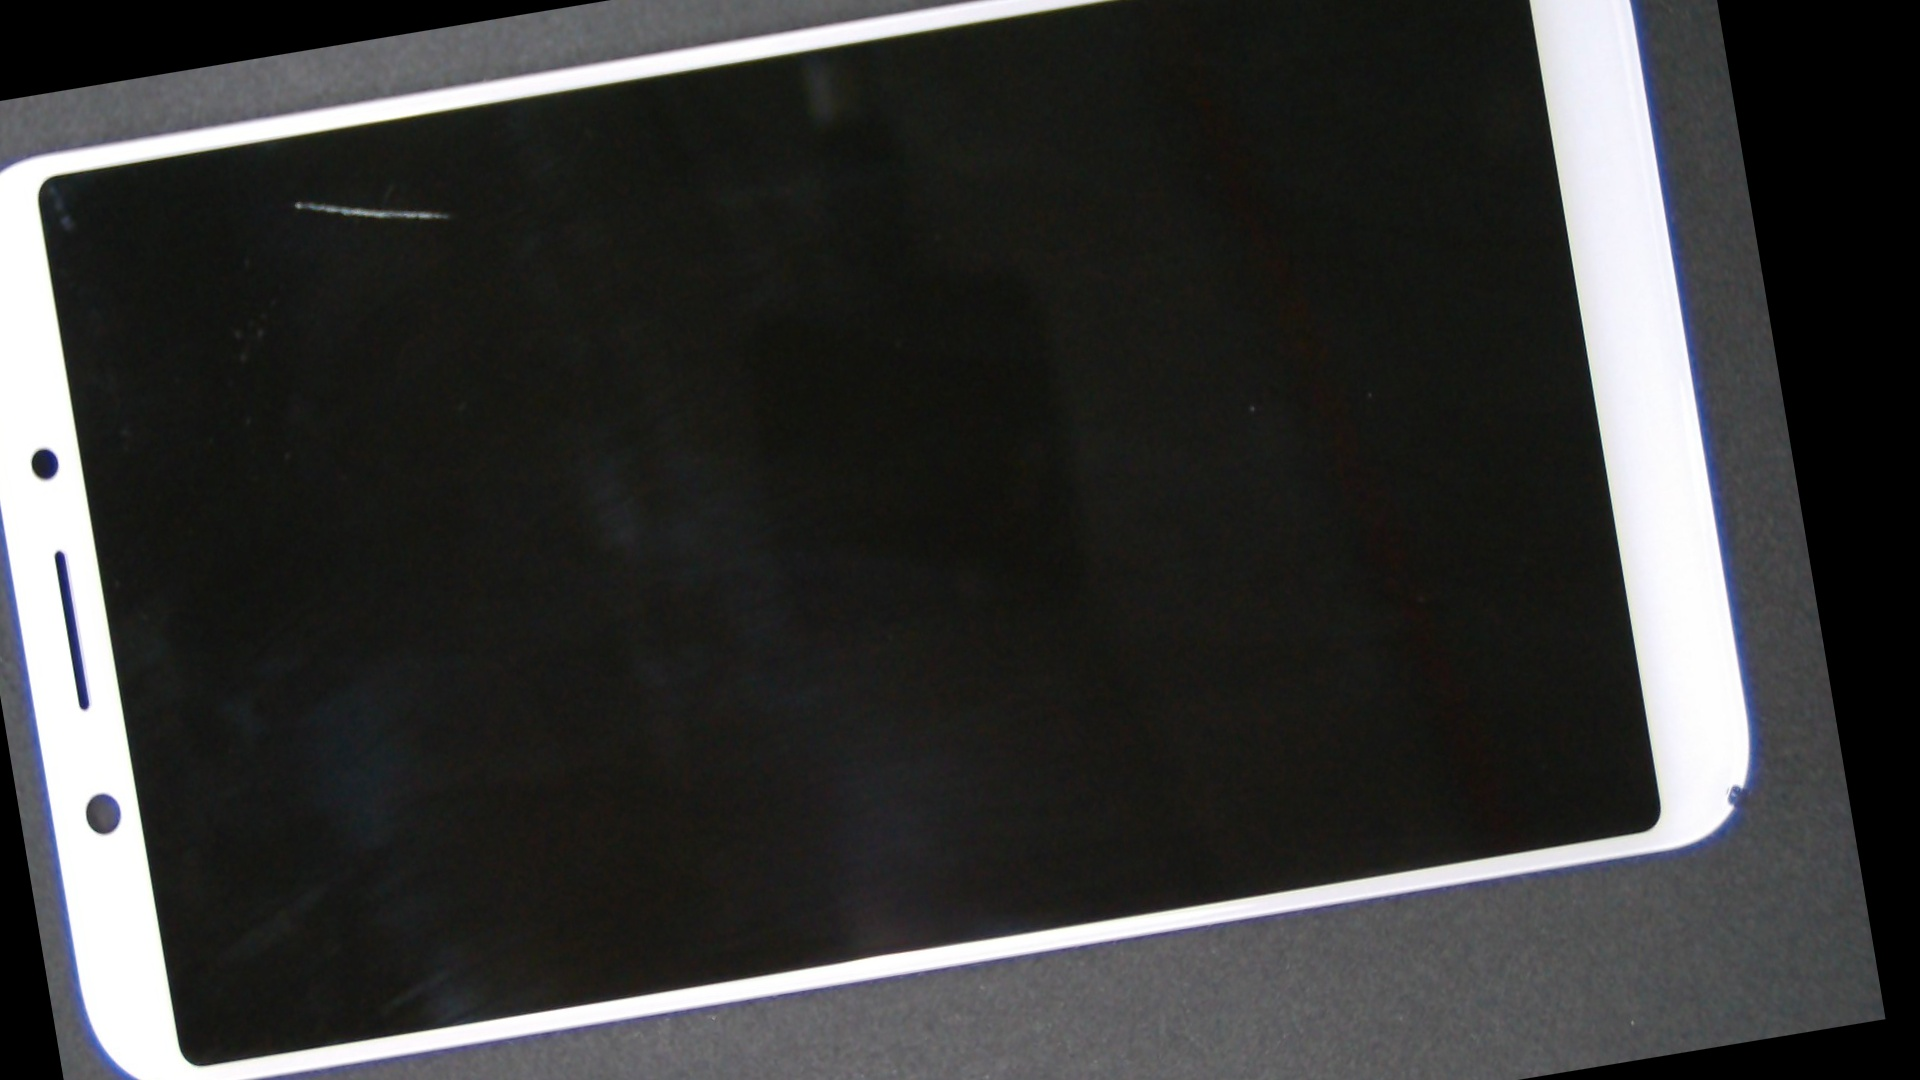oil: (102, 98, 493, 305)
